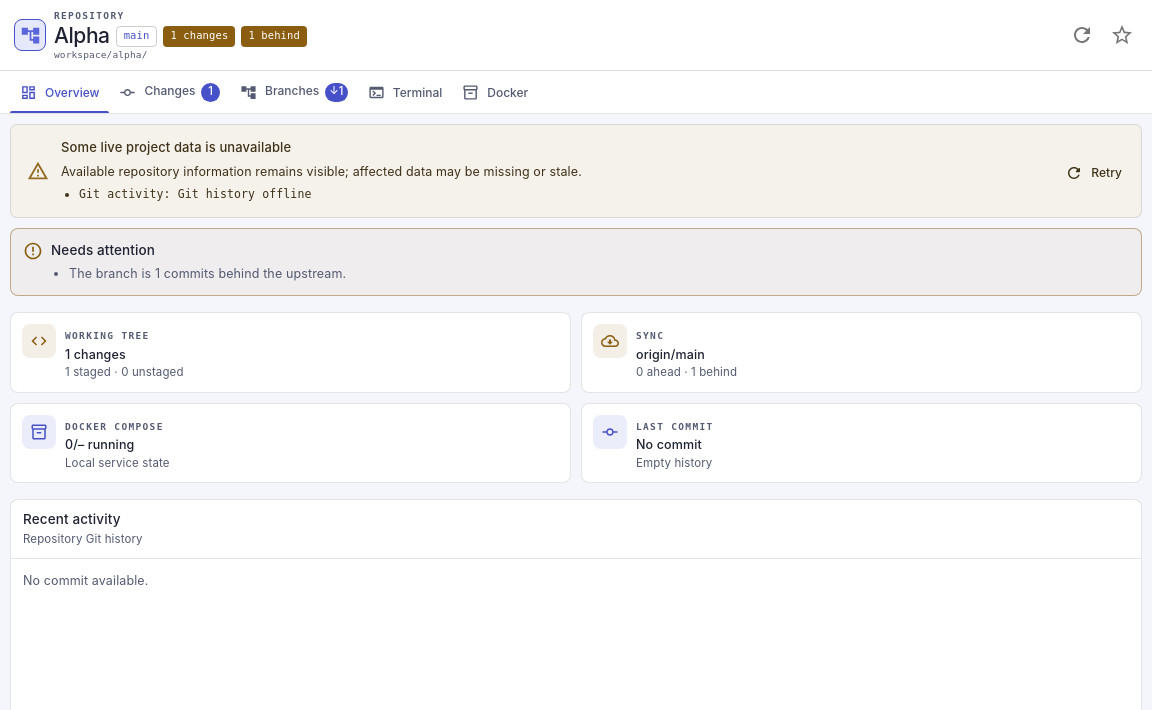
Test: ProjectDetailPanel › surfaces Git activity failures on the overview and retries only the failed source
This screenshot has width=1152, height=710.
Check: the text "Some live project data is unavailable" is shown, box x1=61 y1=139 x2=291 y2=155
Check: the message shows "Git history offline", box x1=178 y1=187 x2=312 y2=201
Click the button "Retry": (1095,173) x1=1056 y1=157 x2=1133 y2=189
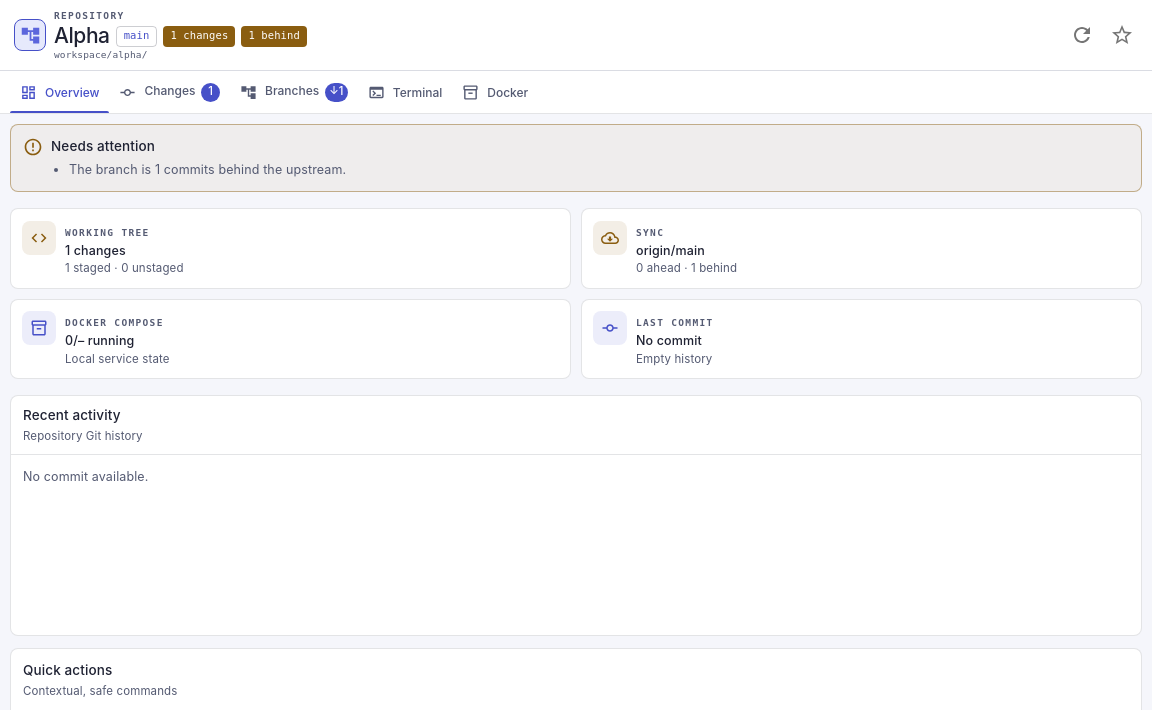
Check: the list item "Git history offline" is gone
